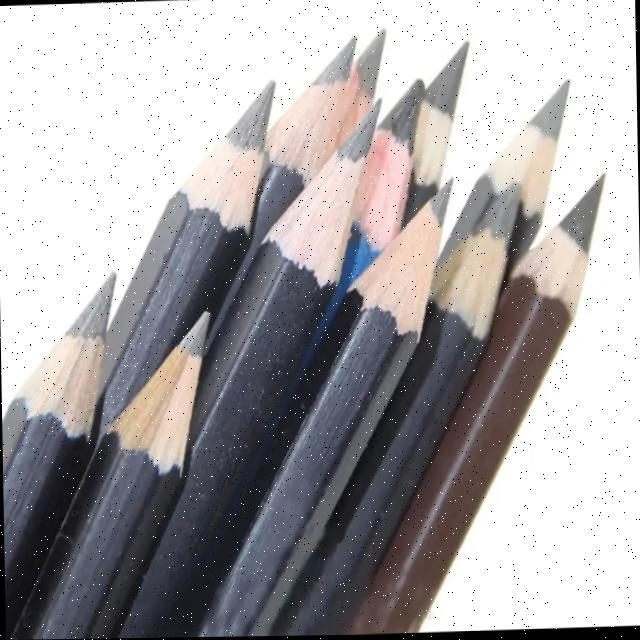pencil: (118, 94, 384, 639), (173, 173, 459, 638), (348, 166, 612, 636), (274, 176, 528, 637), (9, 306, 214, 640), (100, 77, 281, 433), (3, 265, 124, 640), (440, 74, 577, 271), (262, 33, 360, 239), (342, 74, 431, 288), (404, 35, 474, 229), (344, 24, 388, 142)
